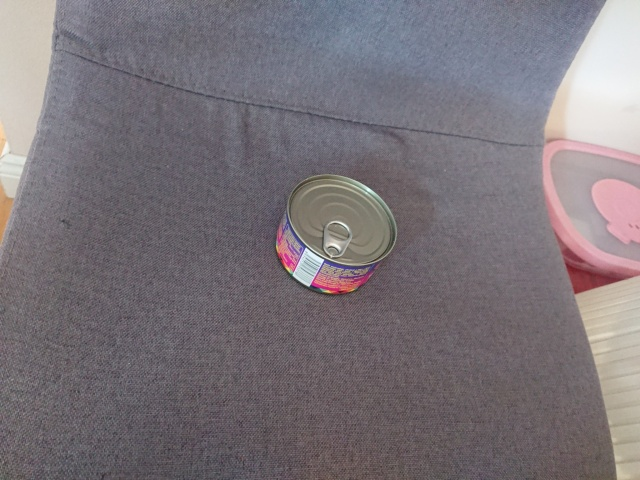Giana Tuna Salad Mexico 185g: (274, 171, 401, 298)
